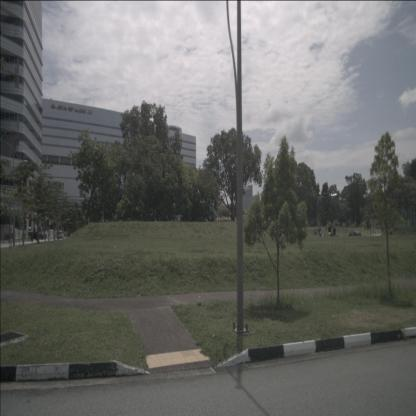vehicle-car: (348, 230, 361, 238), (58, 230, 64, 239)
